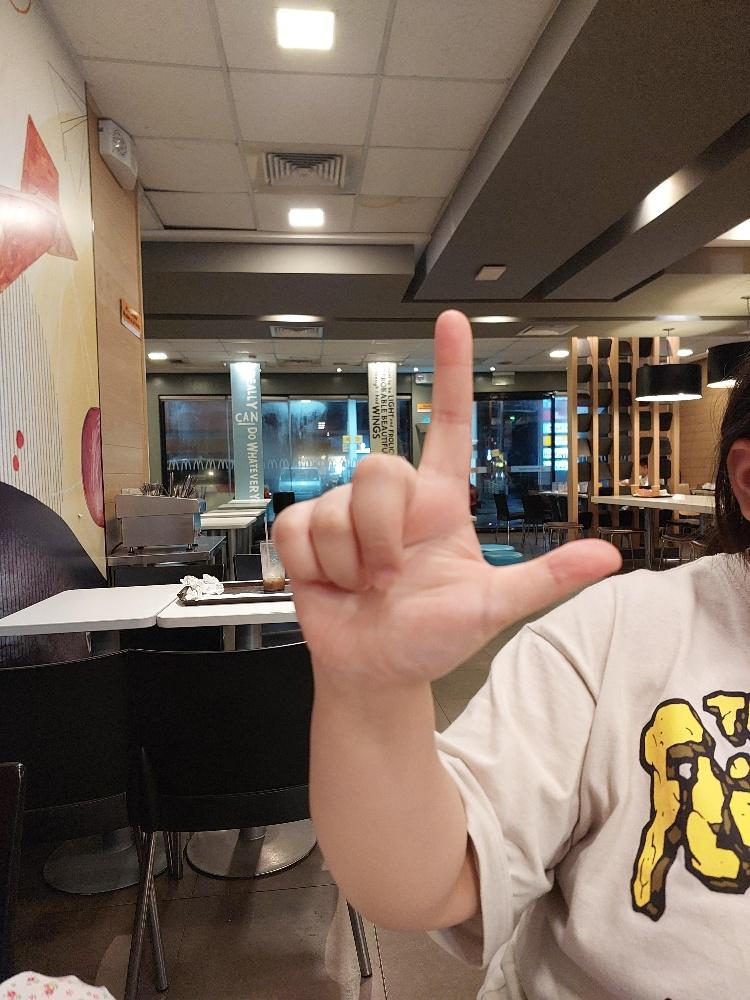l: (269, 306, 624, 690)
